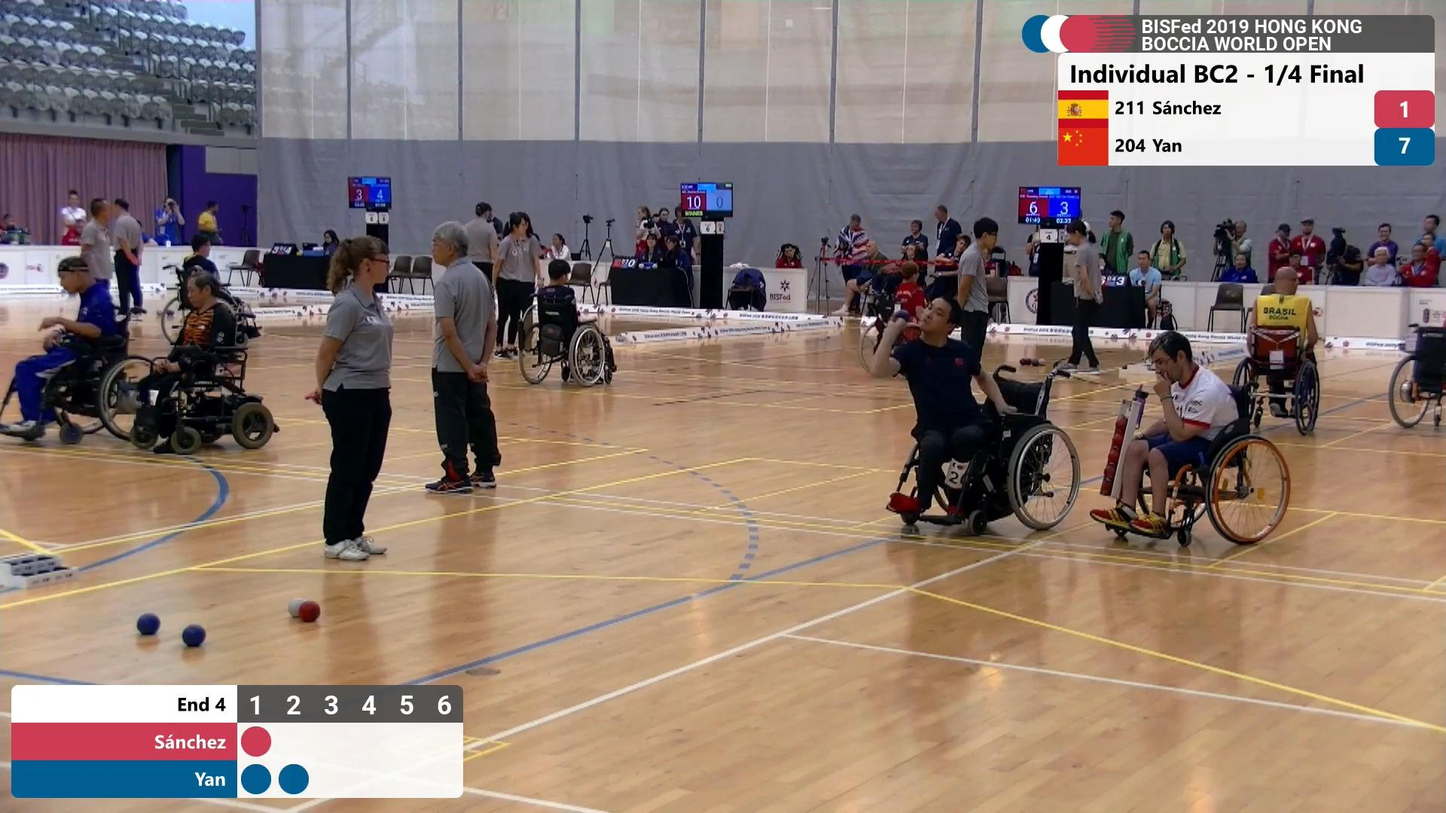blue_ball: (181, 620, 207, 650), (134, 610, 162, 635)
red_ball: (298, 598, 322, 624)
